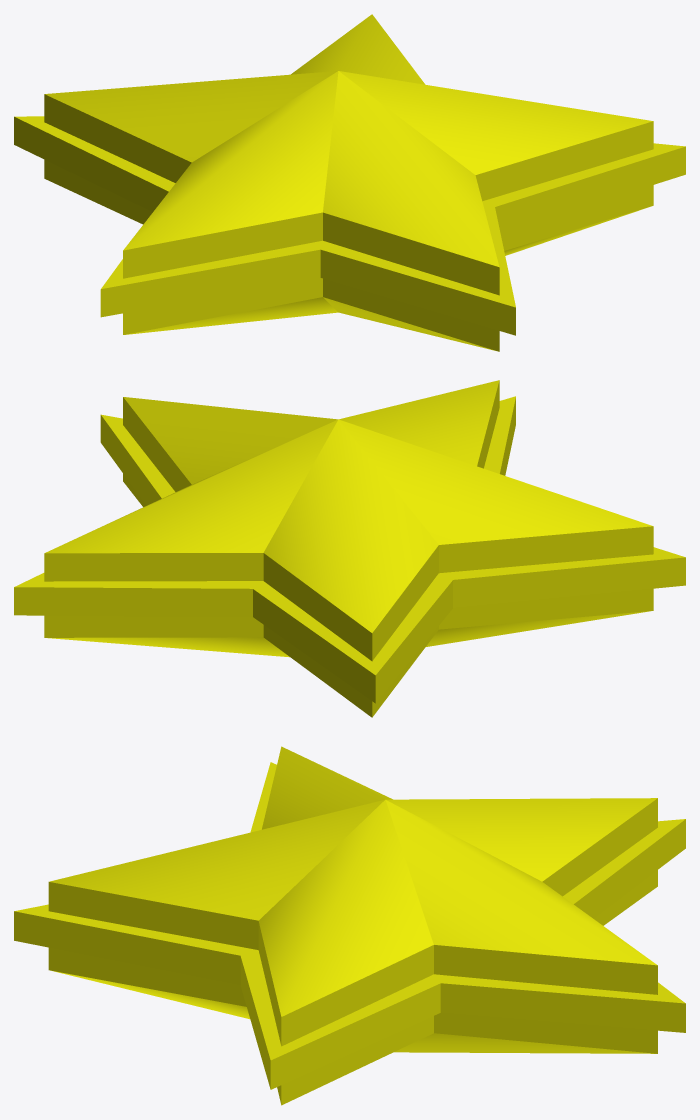
Rendered from star.fbx.
3 views of the same model, one above another, from view 1: azimuth 30°, elevation 25°; view 2: azimuth 150°, elevation 25°; view 3: azimuth 270°, elevation 25° (orthographic). The views are drawn at different scales.
Parts seen in each view (by area): view 1: star_pCube5; view 2: star_pCube5; view 3: star_pCube5.
Boxes of the visible parts, x1,y1,x2,y2 form: star_pCube5: (14,14,685,351); star_pCube5: (14,380,685,717); star_pCube5: (14,746,685,1105).
Size of the model in its own units: 1.86 by 0.7338 by 1.77.
